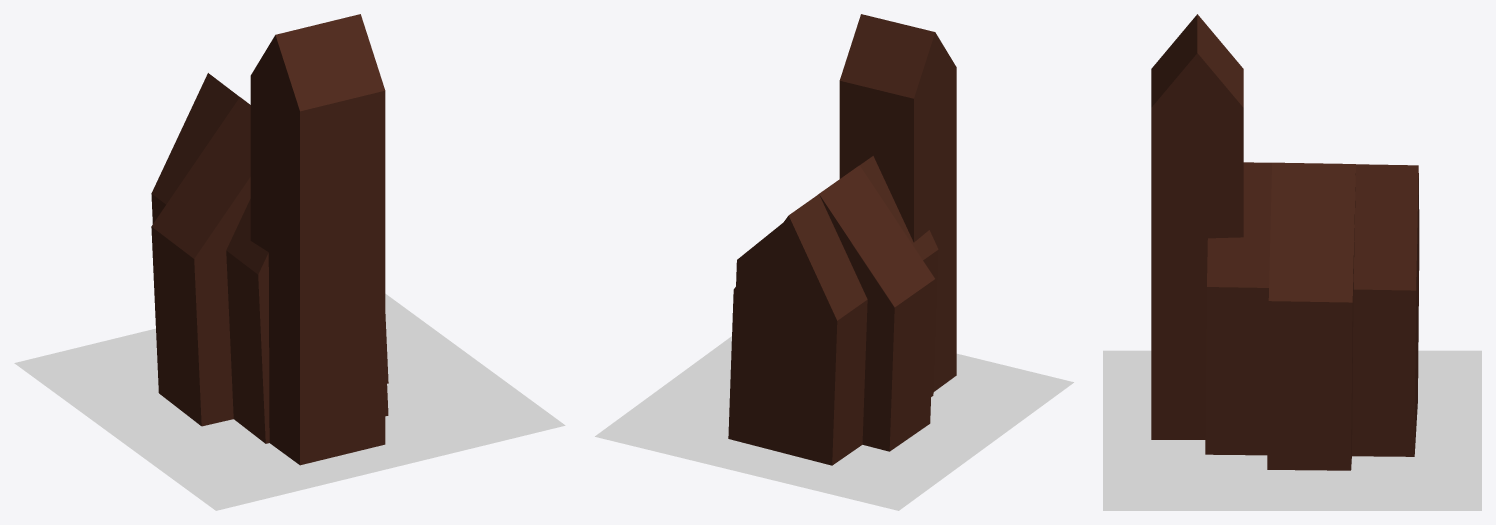
File: Santas_Workshop_Placeholder.fbx
3 renders of one model, left to right at view 1: azimuth 30°, elevation 25°; view 2: azimuth 150°, elevation 25°; view 3: azimuth 270°, elevation 25°, orthographic. The views are drawn at different scales.
Parts seen in each view (by area): view 1: Cube.007, Plane.005, Cube.005, Cube.006; view 2: Cube.006, Plane.005, Cube.007, Cube.005; view 3: Cube.006, Plane.005, Cube.007, Cube.005.
Part boxes in pixels (x1,y1,x2,y2): Cube.007: (250,14,385,465); Plane.005: (14,293,565,510); Cube.005: (151,97,388,426); Cube.006: (151,73,388,443); Cube.006: (728,156,938,465); Plane.005: (595,336,1073,510); Cube.007: (839,14,956,391); Cube.005: (736,165,935,451); Cube.006: (1205,162,1419,456); Plane.005: (1103,350,1481,510); Cube.007: (1151,14,1243,439); Cube.005: (1267,162,1355,470).
Bounding box in the file's own units: 82.96 × 95.51 × 82.96.
